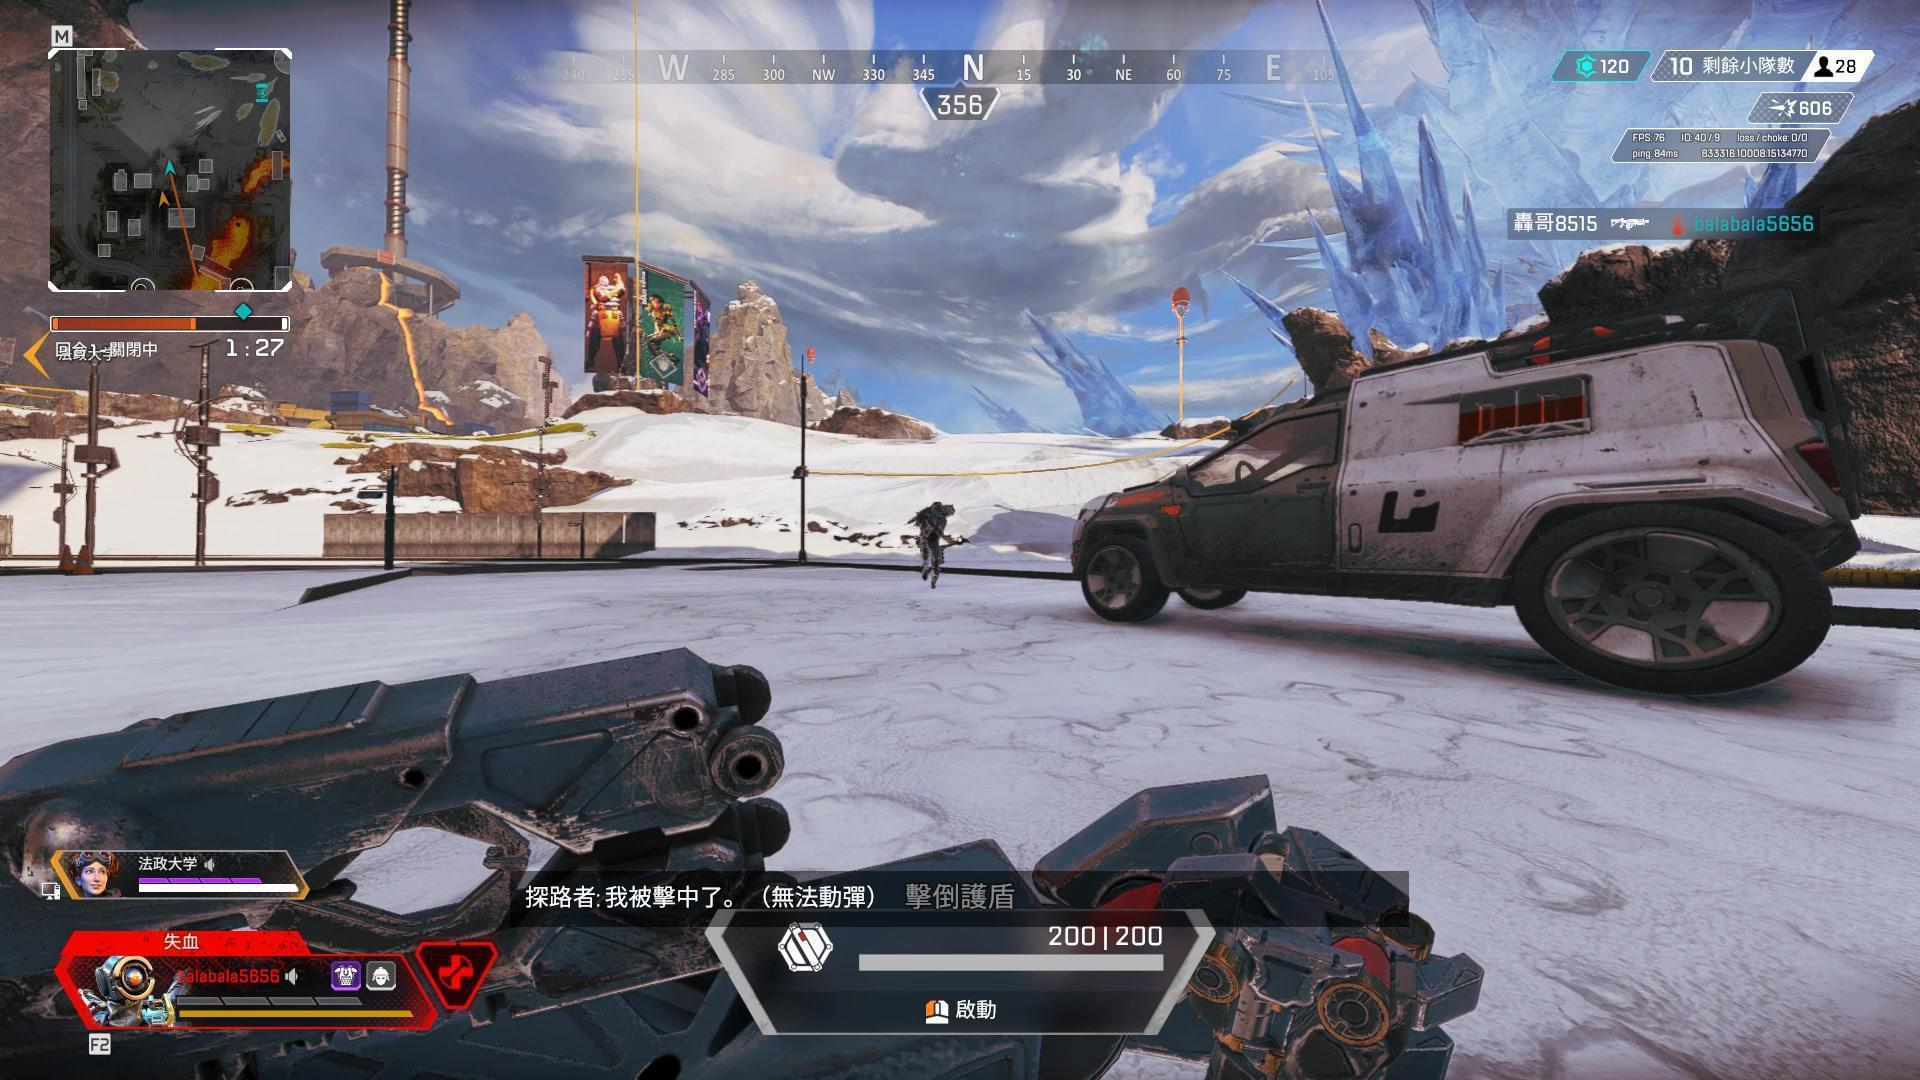avatar: (910, 498, 959, 593)
